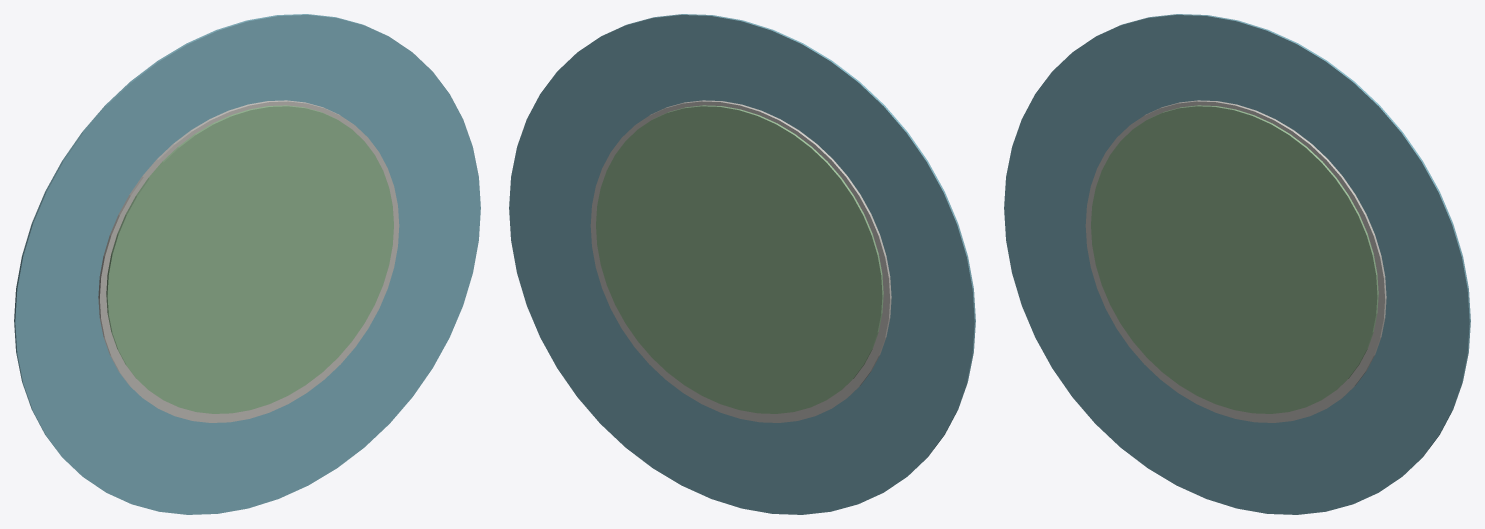
Rendered from island_ground.glb.
The picture shows the model from 3 angles, left to right: view 1: azimuth 30°, elevation 25°; view 2: azimuth 150°, elevation 25°; view 3: azimuth 330°, elevation 25°; orthographic projection.
Visible parts, largest first — view 1: sea_ring, grass, sand_rim; view 2: sea_ring, grass, sand_rim; view 3: sea_ring, grass, sand_rim.
Boxes of the visible parts, x1=… form: sea_ring: x1=14, y1=14, x2=480, y2=514; grass: x1=106, y1=105, x2=393, y2=413; sand_rim: x1=98, y1=100, x2=399, y2=422; sea_ring: x1=509, y1=14, x2=975, y2=514; grass: x1=596, y1=105, x2=883, y2=413; sand_rim: x1=590, y1=100, x2=891, y2=422; sea_ring: x1=1004, y1=14, x2=1470, y2=514; grass: x1=1091, y1=105, x2=1378, y2=413; sand_rim: x1=1085, y1=100, x2=1386, y2=422.
Size of the model in its own units: 13 by 13 by 0.32.
